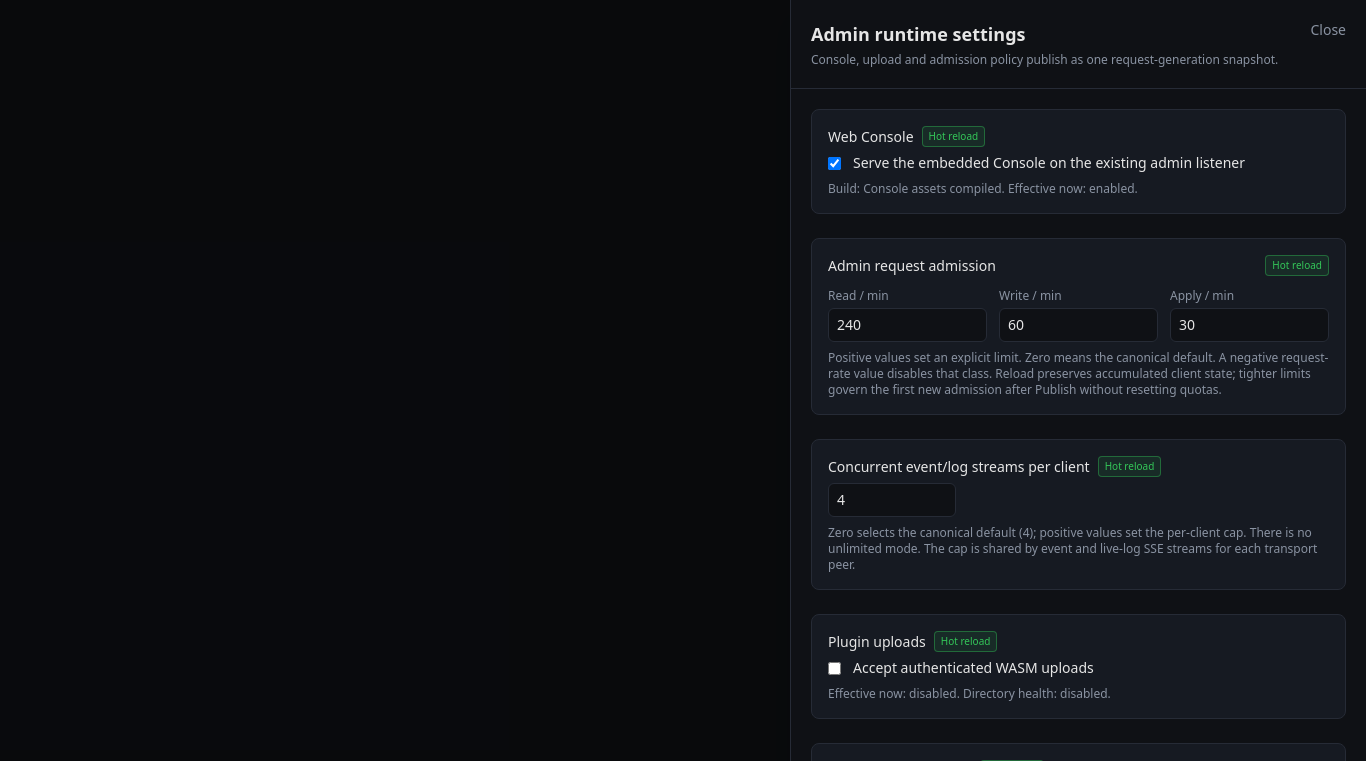
AdminRuntimeSettingsDrawer HR-07A limits › keeps save disabled for unchanged or non-integer request-rate values
expect the text "Admin request admission" is shown: met, box x1=828 y1=256 x2=996 y2=276
expect the number field labelled "Write / min" holds "60": met, box x1=999 y1=308 x2=1158 y2=342
Replace the text in the number field labelled "Read / min" with "1.25" at (908, 325), box x1=828 y1=308 x2=987 y2=342
(page scrolled)
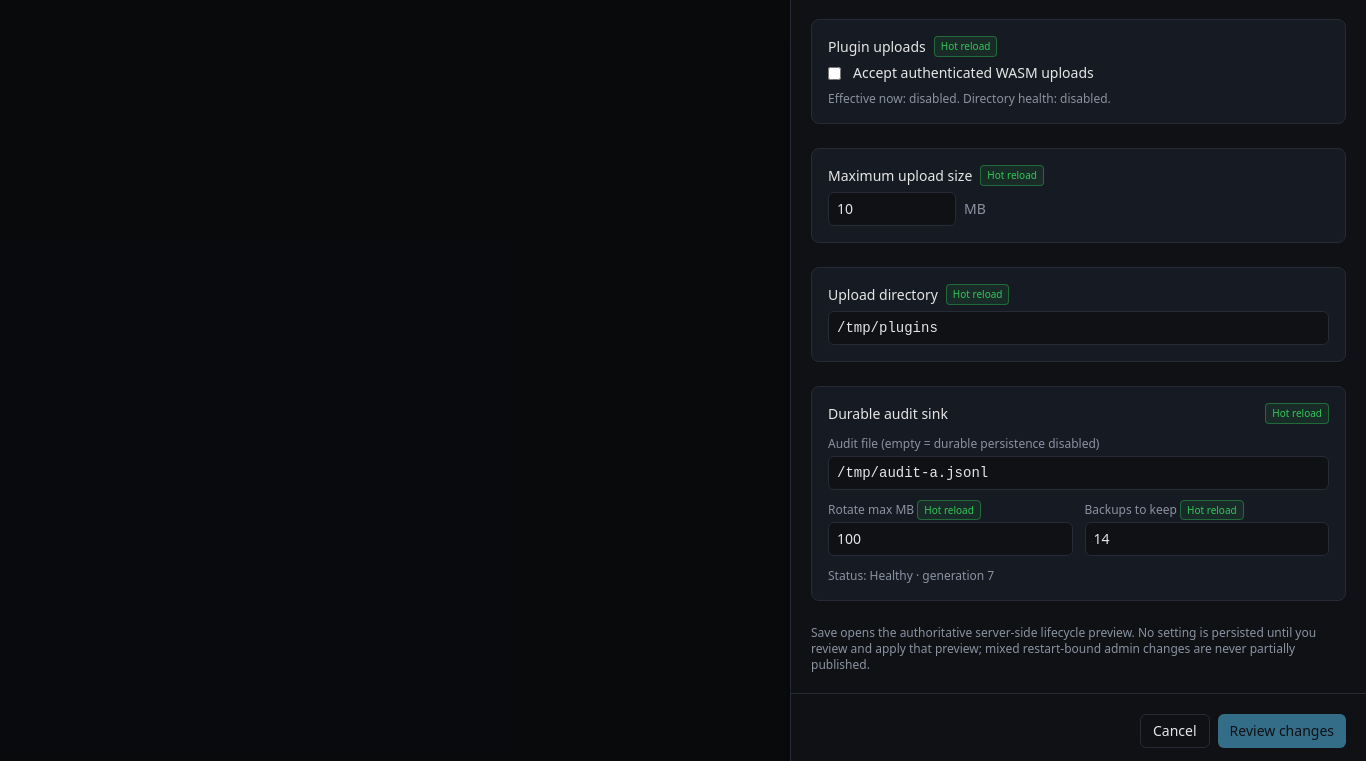
expect the button "Review changes" is disabled: met, box x1=1218 y1=714 x2=1346 y2=748
